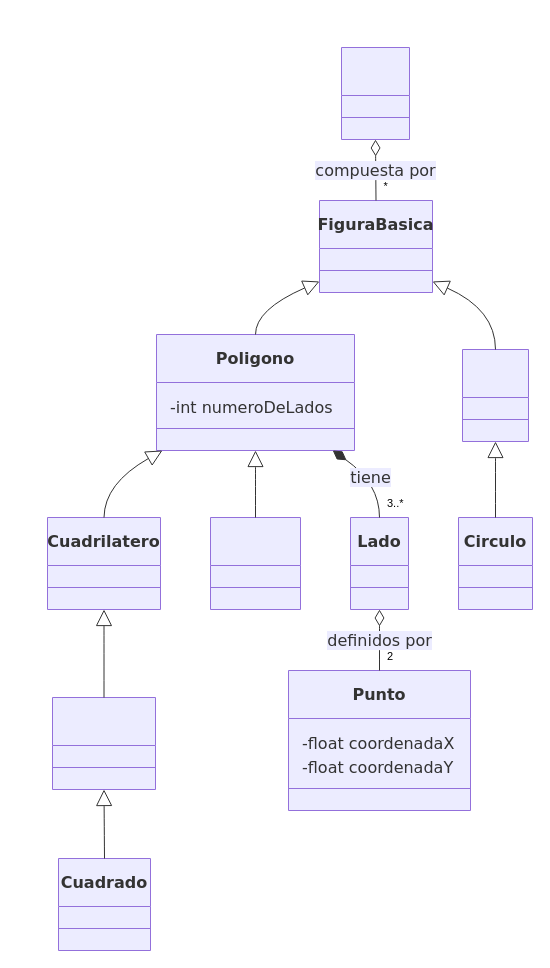
Image size: 550x968. Some labels were removed from this diagram. The centre of each missing label's shape, as x and y in pixels:
Elipse: the point at 495,395
Figura: the point at 375,93
Rectangulo: the point at 104,743
Triangulo: the point at 255,563
